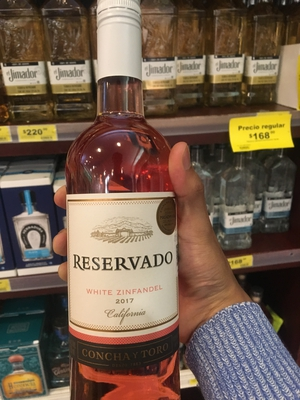reservado white zinfandel: (66, 1, 181, 385)
